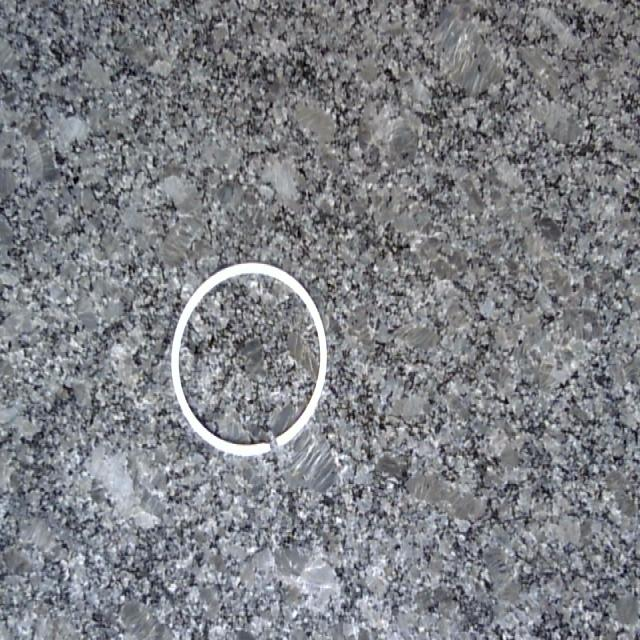white-ring: (172, 263, 326, 457)
